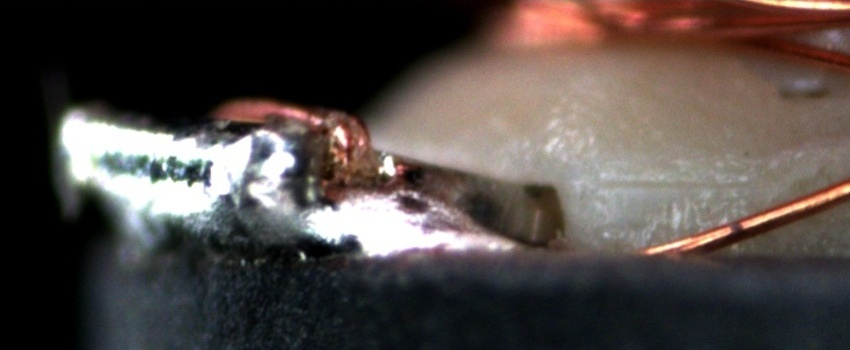DL: (597, 154, 749, 217)
TE: (211, 92, 372, 169)
